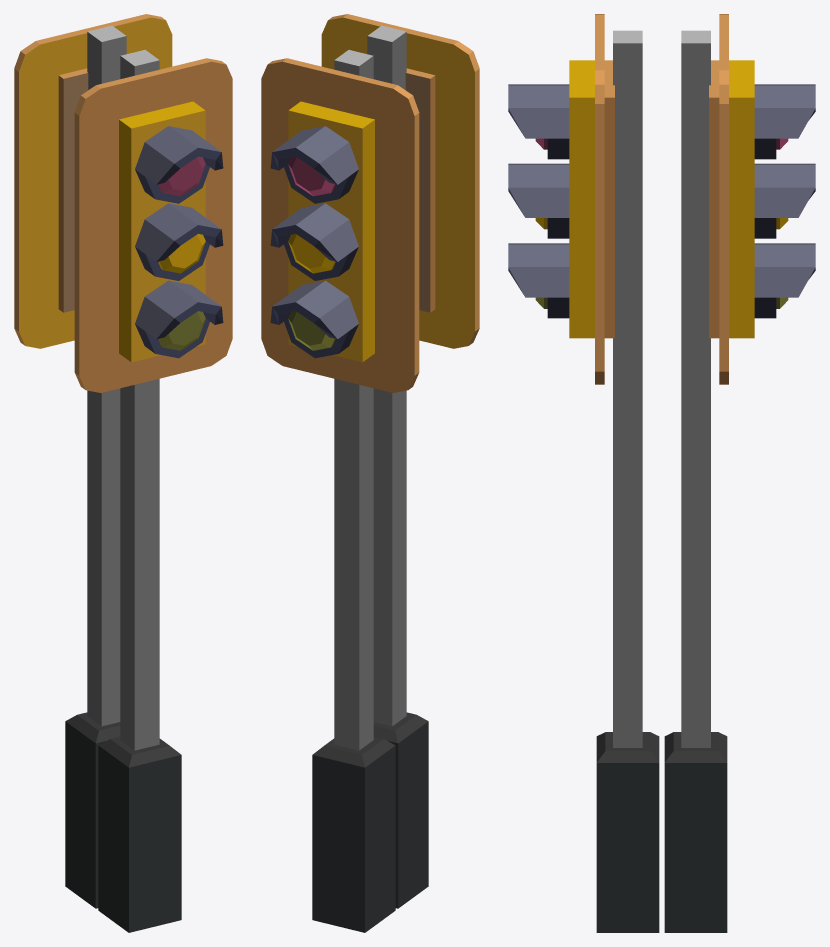
Rendered from TrafficLightExplosion.fbx.
The picture shows the model from 3 angles, left to right: view 1: azimuth 30°, elevation 25°; view 2: azimuth 150°, elevation 25°; view 3: azimuth 270°, elevation 25°; orthographic projection. The views are drawn at different scales.
Visible parts, largest first — view 1: TrafficLight02, TrafficLight01; view 2: TrafficLight01, TrafficLight02; view 3: TrafficLight02, TrafficLight01.
Part boxes in pixels (bbox=[...]): TrafficLight02: bbox=[74, 50, 232, 932]; TrafficLight01: bbox=[14, 14, 172, 908]; TrafficLight01: bbox=[261, 50, 419, 932]; TrafficLight02: bbox=[321, 14, 479, 908]; TrafficLight02: bbox=[508, 14, 659, 932]; TrafficLight01: bbox=[664, 14, 815, 932].
Size of the model in its own units: 0.5356 by 2.86 by 0.9034.
Materials: 1 (1 with a texture image).
